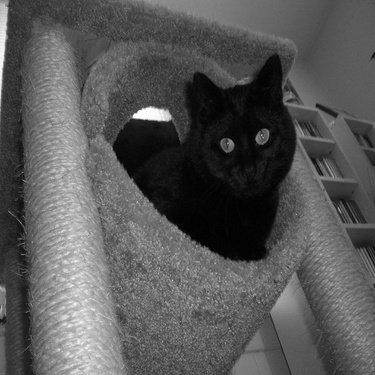cat: (133, 47, 295, 264)
